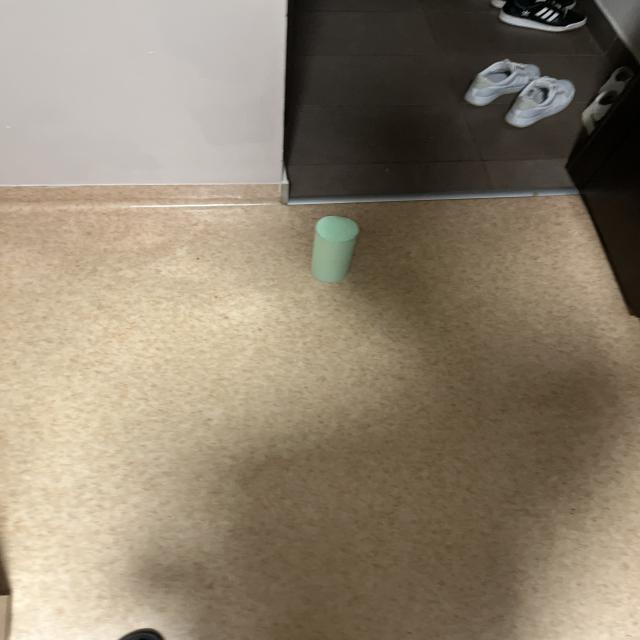meta: (311, 216, 359, 282)
